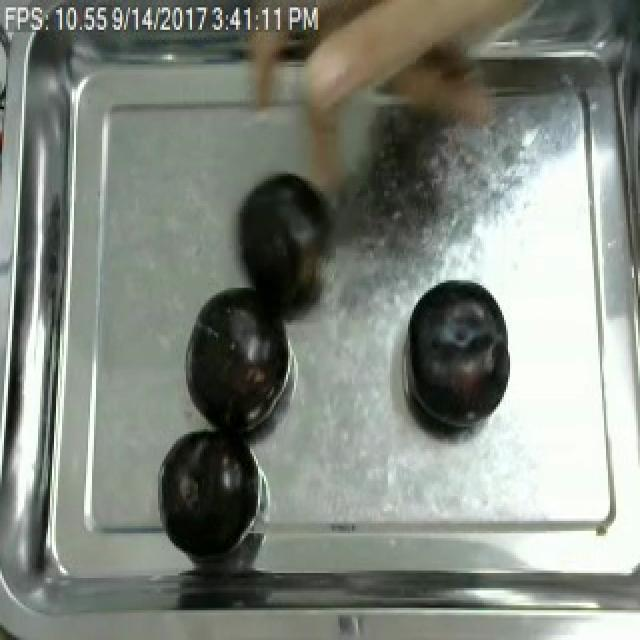Fruit: (402, 275, 516, 432), (180, 280, 290, 434), (154, 416, 262, 560), (232, 169, 330, 315)
